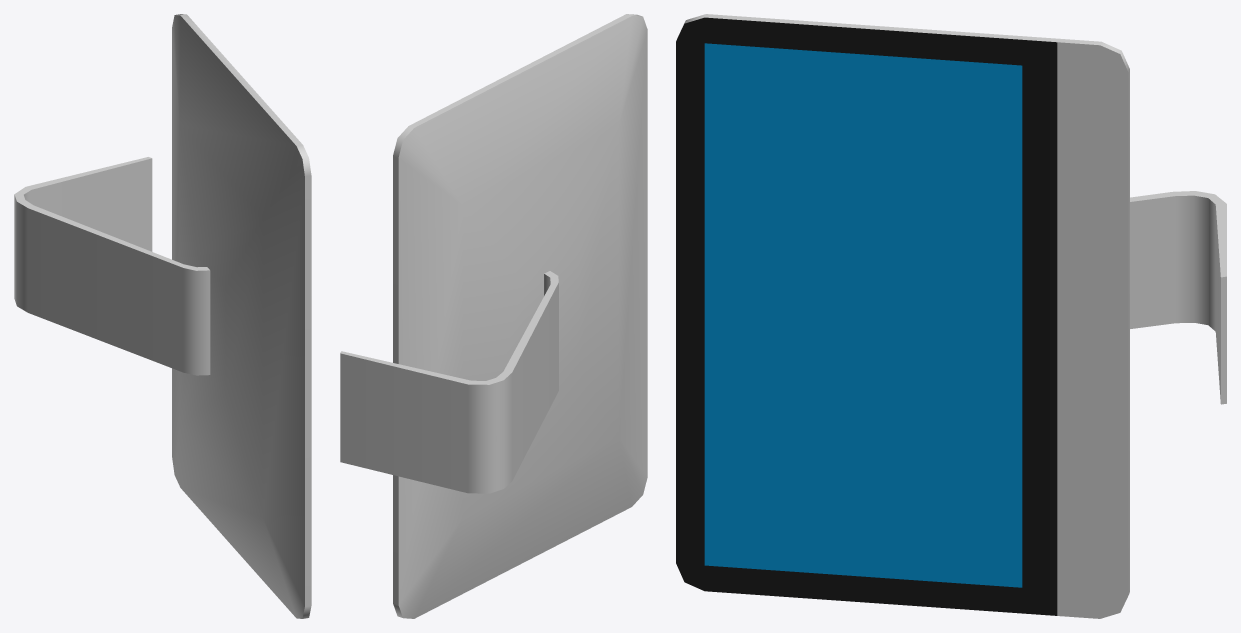
The model's file is computer-monitor-by-poly-by-google-122W5QAK4oO.glb.
3 renders of one model, left to right at view 1: azimuth 30°, elevation 25°; view 2: azimuth 150°, elevation 25°; view 3: azimuth 270°, elevation 25°, orthographic. The views are drawn at different scales.
Visible parts, largest first — view 1: Google:polySurface1; view 2: Google:polySurface1; view 3: Google:polySurface1.
Boxes of the visible parts, box(x1,y1,x2,y2) form: Google:polySurface1: box(14, 14, 311, 618); Google:polySurface1: box(340, 14, 647, 618); Google:polySurface1: box(676, 14, 1226, 618).
Size of the model in its own units: 97.02 by 300 by 261.
